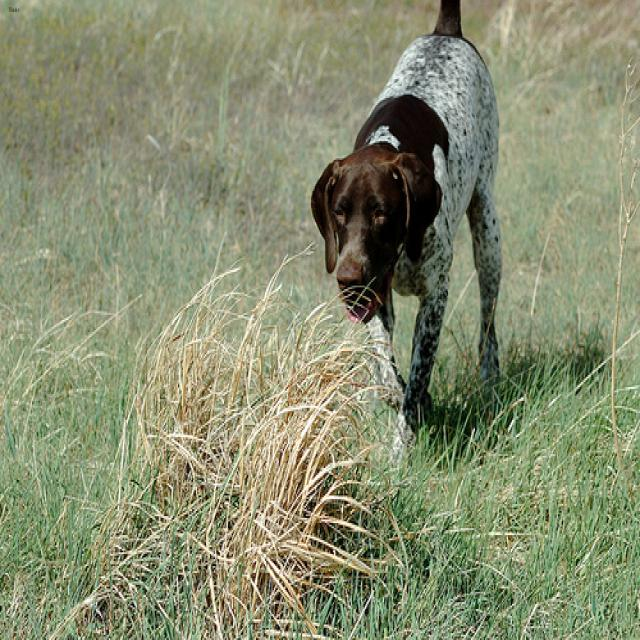dog-german_shorthaired: (303, 2, 513, 499)
